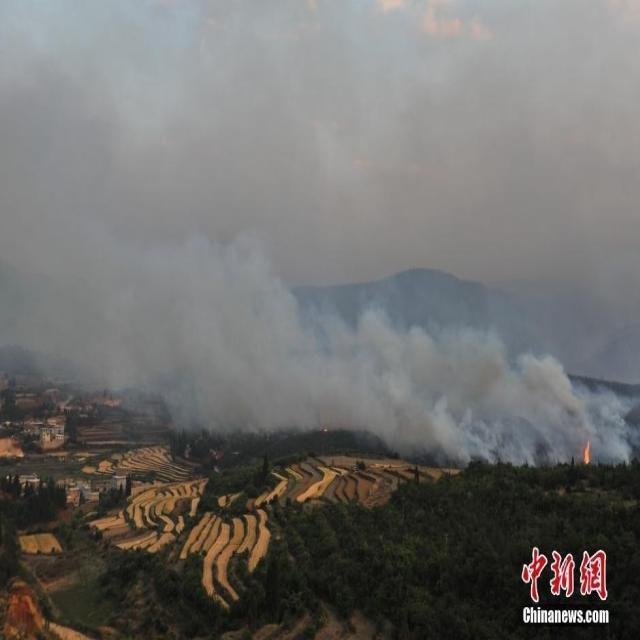Fire: (582, 442, 592, 466)
Smoke: (1, 1, 640, 469)
